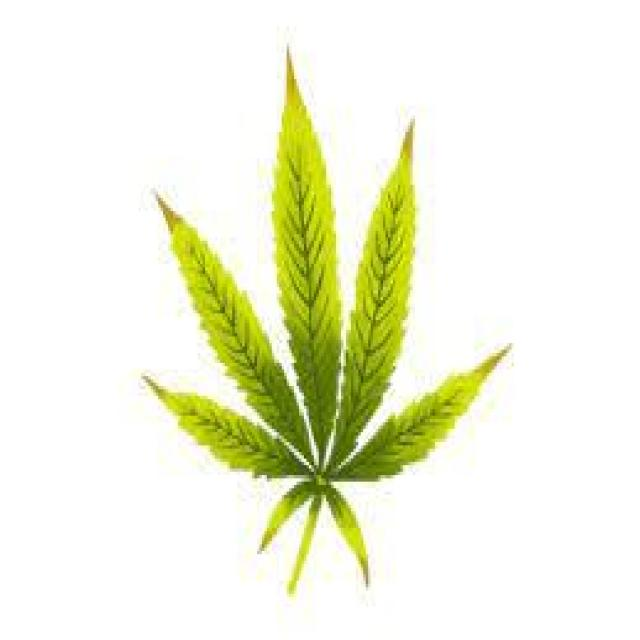cannabis: (136, 46, 514, 601)
